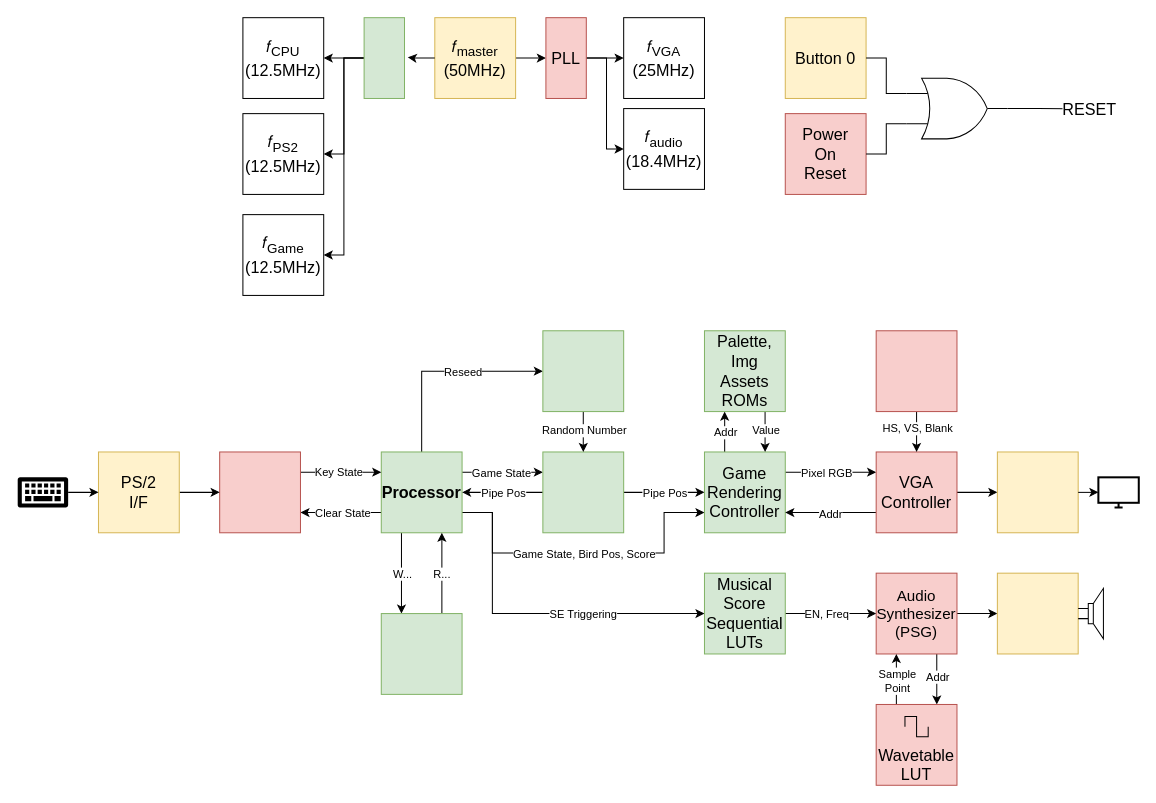
This 1156x803 diagram has some shape labels left out. The centre of each missing label's shape, as x and y in pixels:
Audio Codec I/F: the point at 1037,613
Div /4: the point at 384,57
Game Logic Controller: the point at 583,492
LFSR based PRNG: the point at 583,371
PS/2 Controller: the point at 259,492
Regfile, I/DMEM: the point at 421,653
VGA I/F: the point at 1037,492
VGA Sync Gen: the point at 916,371
